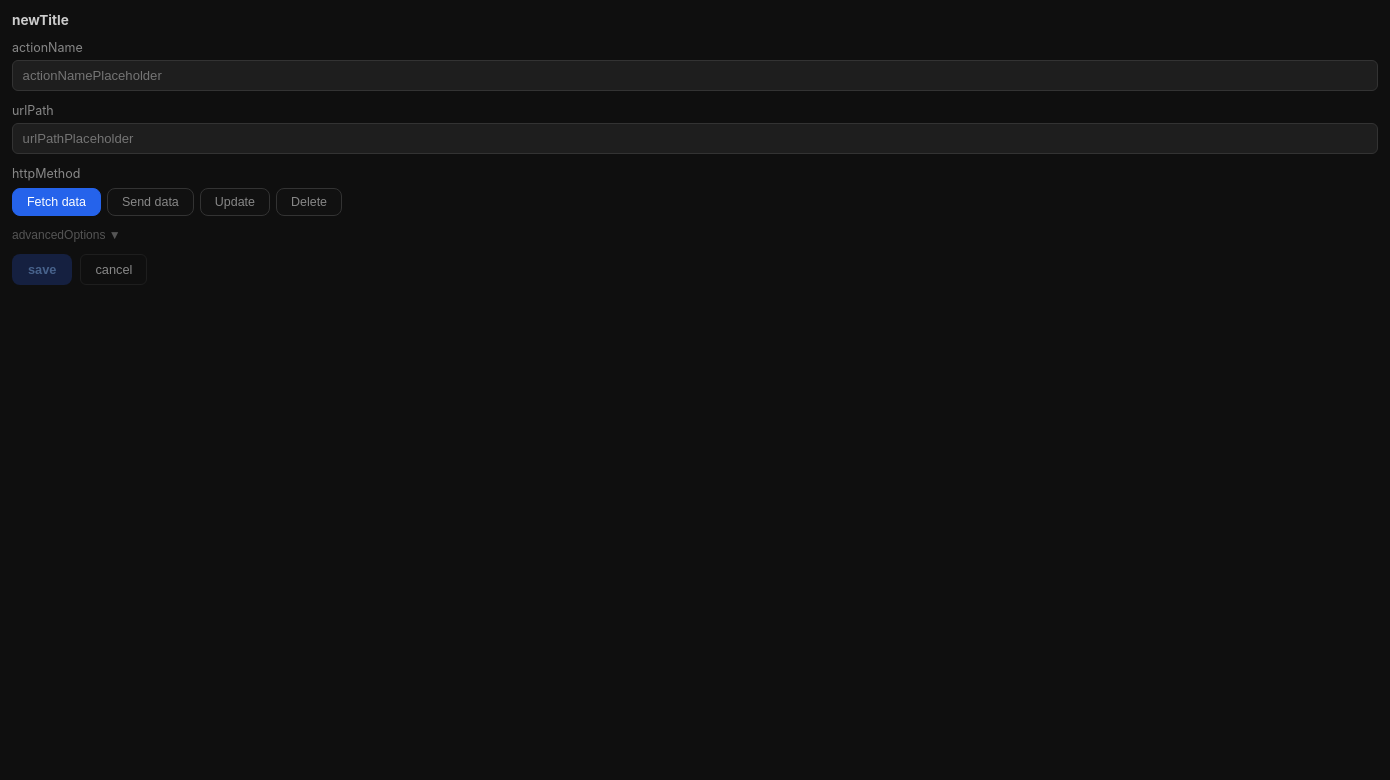
Scenario: ActionForm › "Advanced options" toggle reveals hidden fields
Expected: the text "resourceName" is not shown
Expected: the text "inputFields" is not shown
Click the toggle
Click the button "advancedOptions ▼". click: (59, 235)
box: [12,228,1378,242]
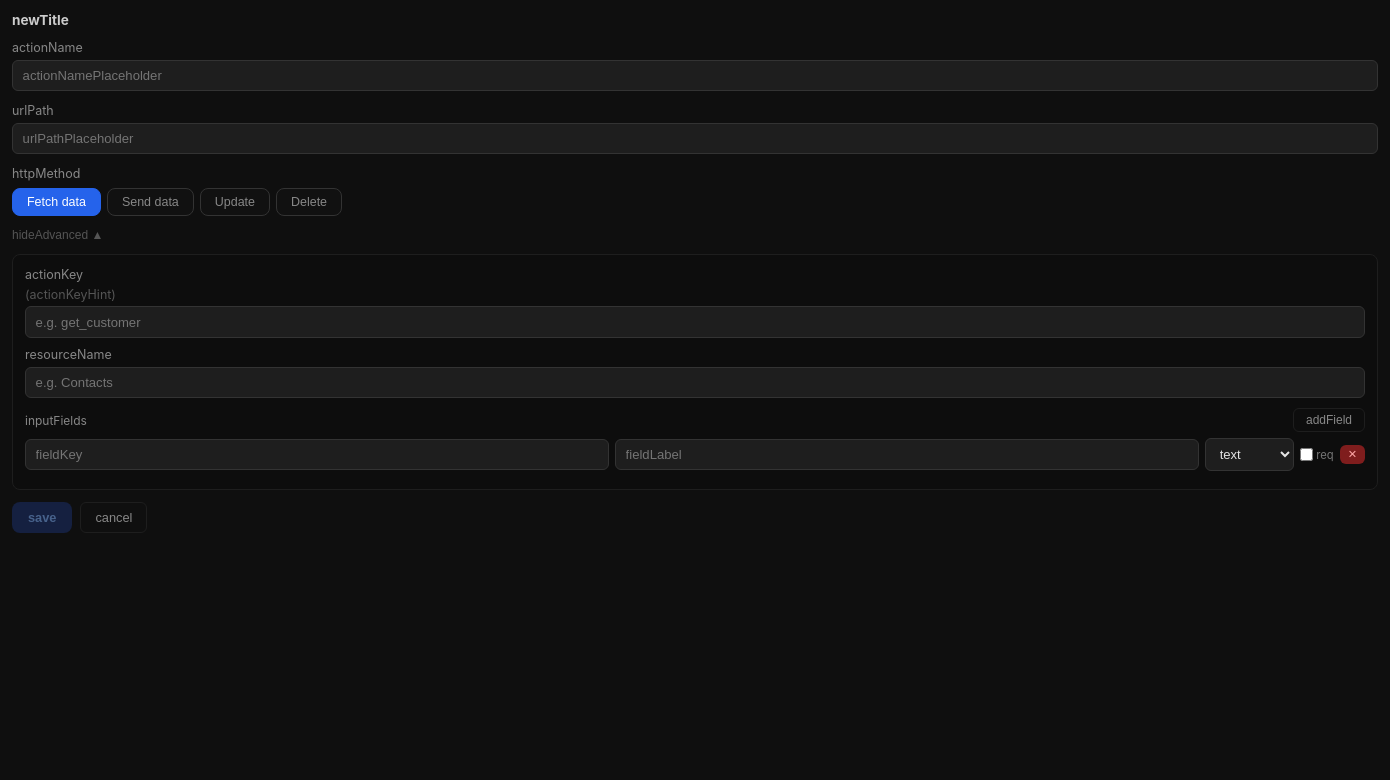
Expected: the field with test id "advanced-action-key" is shown, [25,306,1365,338]
Expected: the text "resourceName" is shown, [25,347,1365,398]
Expected: the text "inputFields" is shown, [25,413,87,428]
